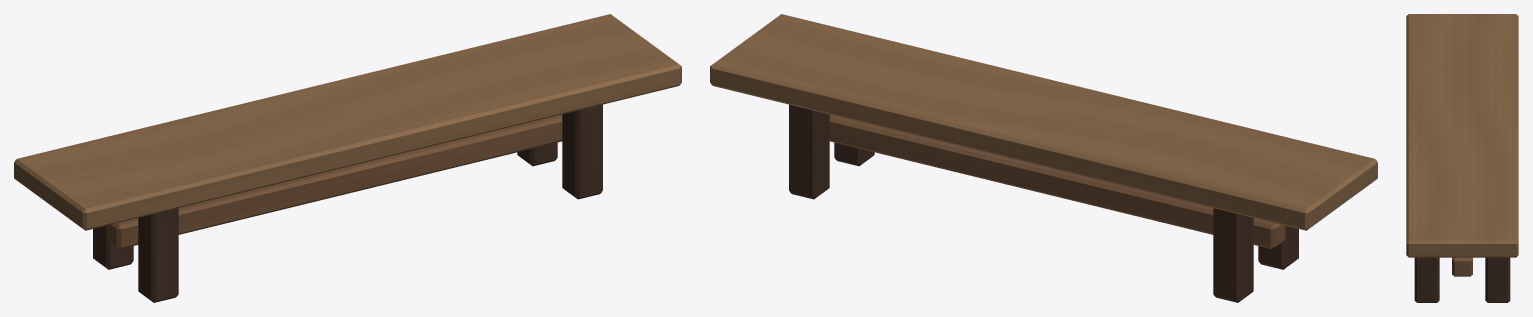
The model's file is rest_bench.glb.
3 views of the same model, side by side, from view 1: azimuth 30°, elevation 25°; view 2: azimuth 150°, elevation 25°; view 3: azimuth 270°, elevation 25° (orthographic). The views are drawn at different scales.
Visible parts, largest first — view 1: Training_PracticeWood, Training_CarvedWood, Training_Timber; view 2: Training_PracticeWood, Training_CarvedWood, Training_Timber; view 3: Training_PracticeWood, Training_Timber, Training_CarvedWood.
Part boxes in pixels (box(x1,y1,x2,y2)): Training_PracticeWood: box(14, 14, 681, 230); Training_CarvedWood: box(106, 114, 562, 249); Training_Timber: box(93, 104, 602, 302); Training_PracticeWood: box(710, 14, 1377, 230); Training_CarvedWood: box(829, 114, 1285, 249); Training_Timber: box(789, 104, 1298, 302); Training_PracticeWood: box(1406, 14, 1518, 257); Training_Timber: box(1414, 257, 1510, 302); Training_CarvedWood: box(1452, 257, 1472, 276).
Size of the model in its own units: 2.6 by 0.48 by 0.54.
3 materials, 3 textured.
